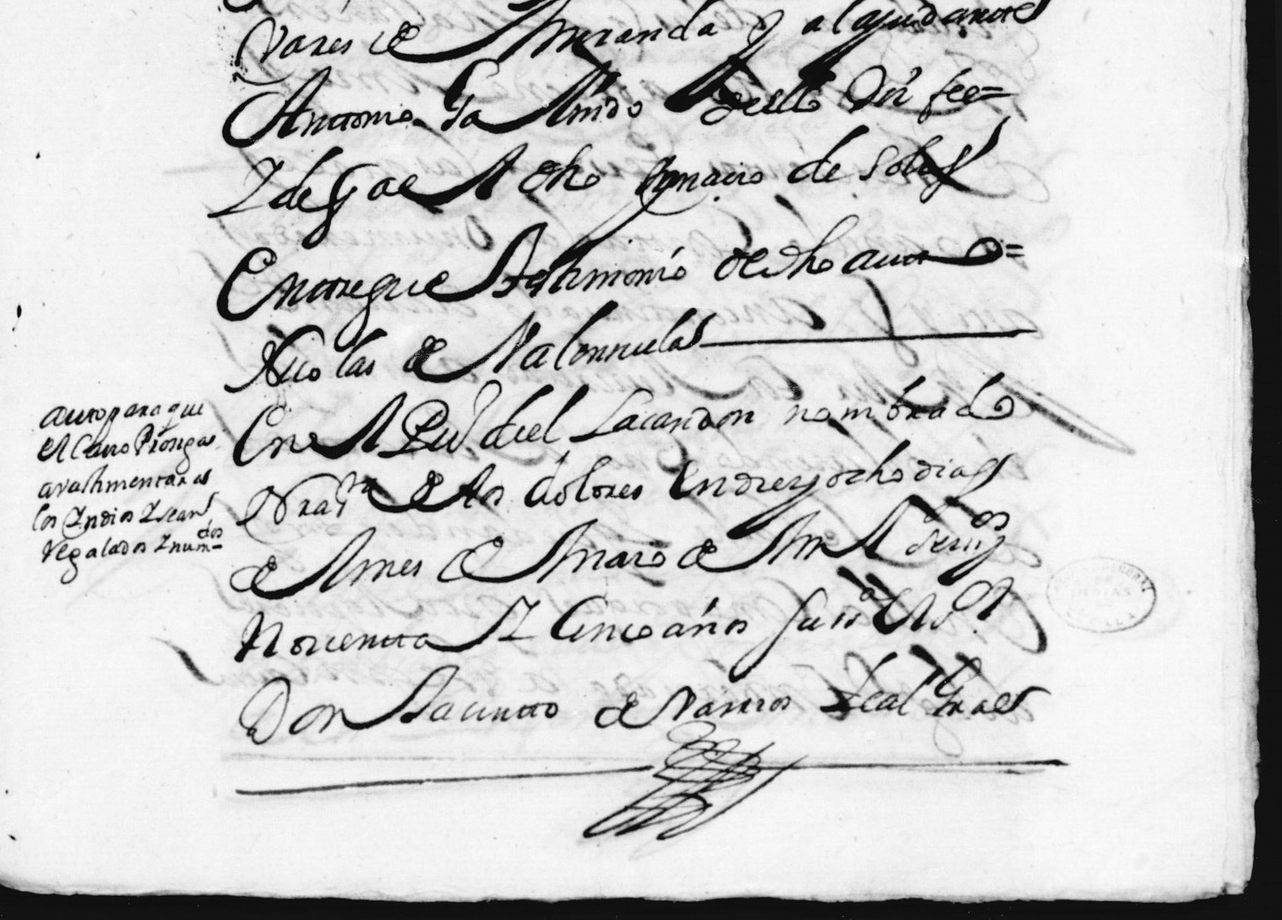lacandon: (569, 387, 754, 442)
